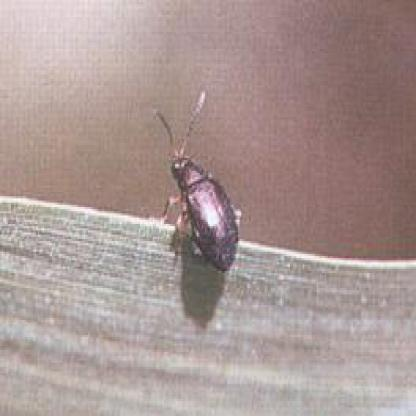beetle: (159, 94, 242, 281)
